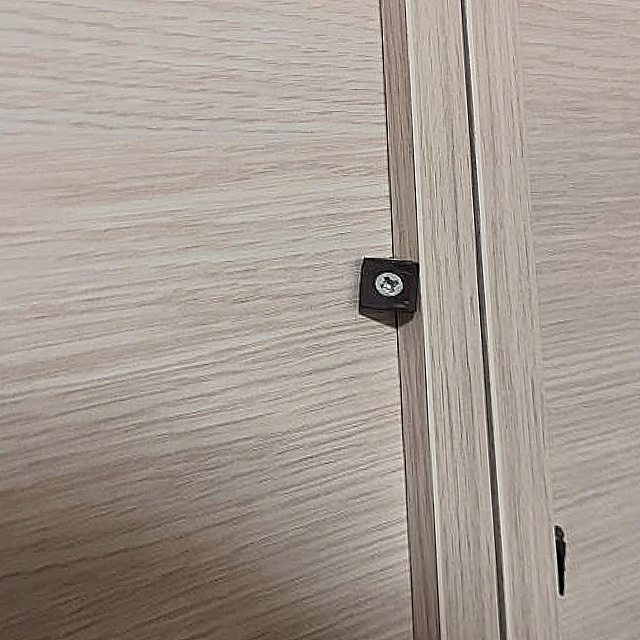pozidriv: (374, 272, 405, 298)
